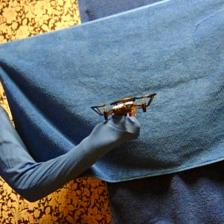drone: (92, 90, 156, 119)
